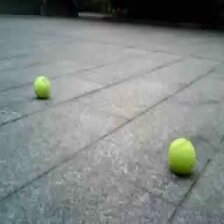tennis: (167, 138, 195, 174), (34, 76, 50, 98)
